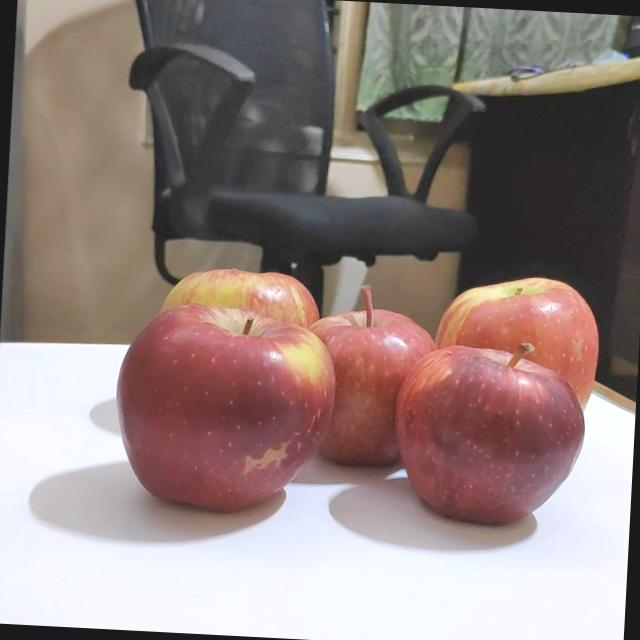apple: (102, 298, 342, 522), (392, 336, 596, 530), (293, 281, 454, 476), (427, 270, 604, 434), (146, 261, 324, 395)
